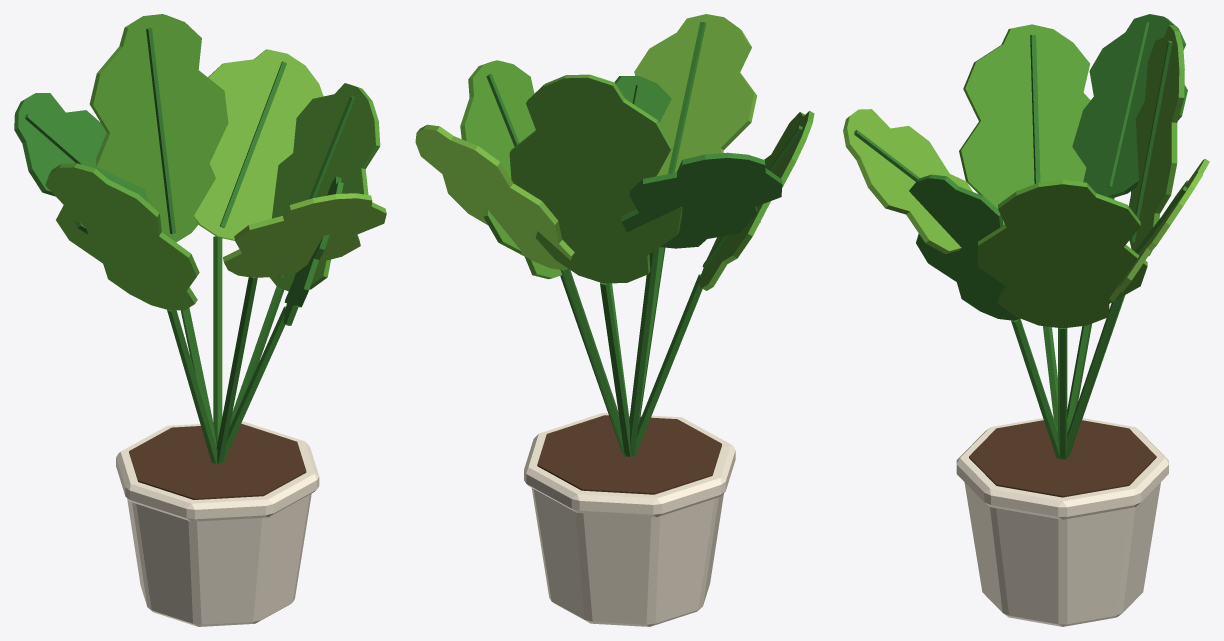
The model's file is large_monstera.glb.
3 renders of one model, left to right at view 1: azimuth 30°, elevation 25°; view 2: azimuth 150°, elevation 25°; view 3: azimuth 270°, elevation 25°, orthographic. The views are drawn at different scales.
Parts seen in each view (by area): view 1: large_monstera; view 2: large_monstera; view 3: large_monstera.
Part boxes in pixels (<box>): large_monstera: <box>14,14,386,626</box>; large_monstera: <box>415,14,814,626</box>; large_monstera: <box>843,14,1209,626</box>.
Size of the model in its own units: 0.9324 by 1.5 by 0.8992.
